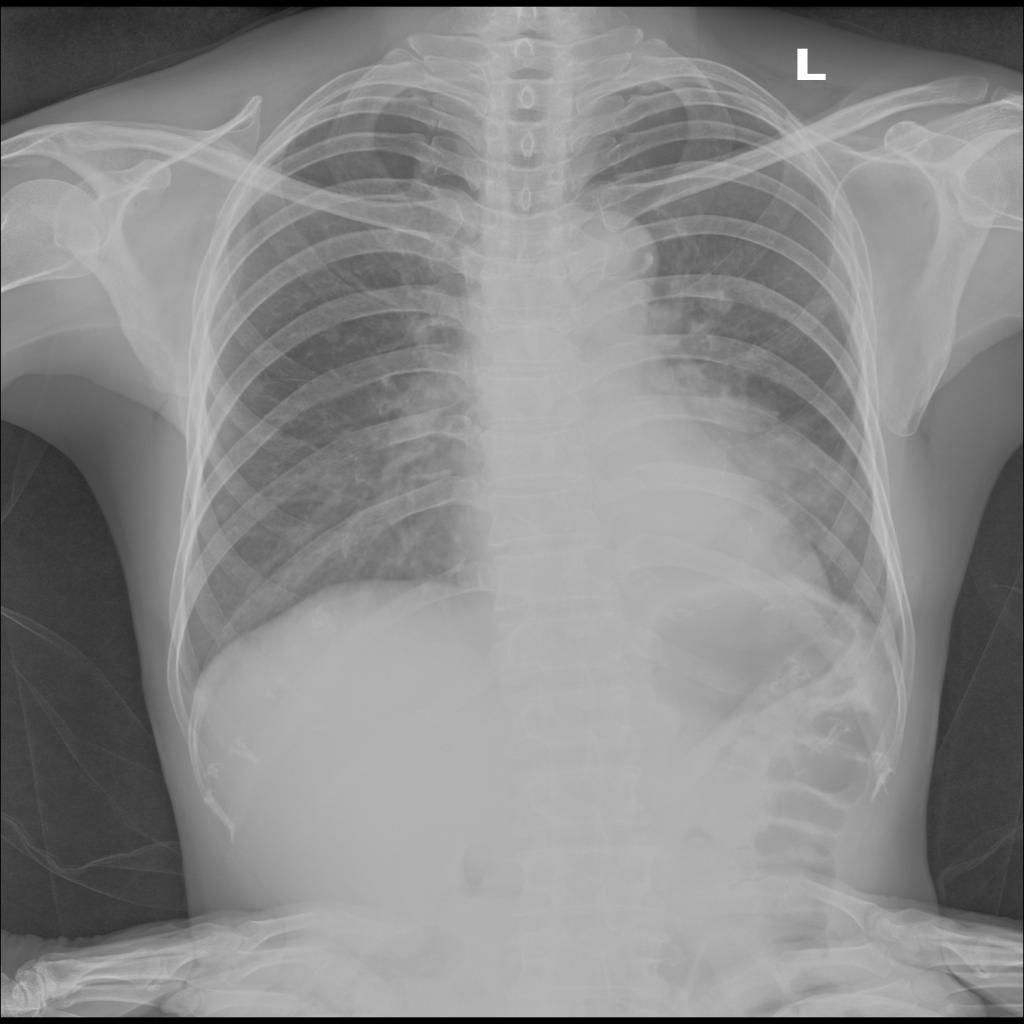Nodule: (698, 290, 736, 318)
